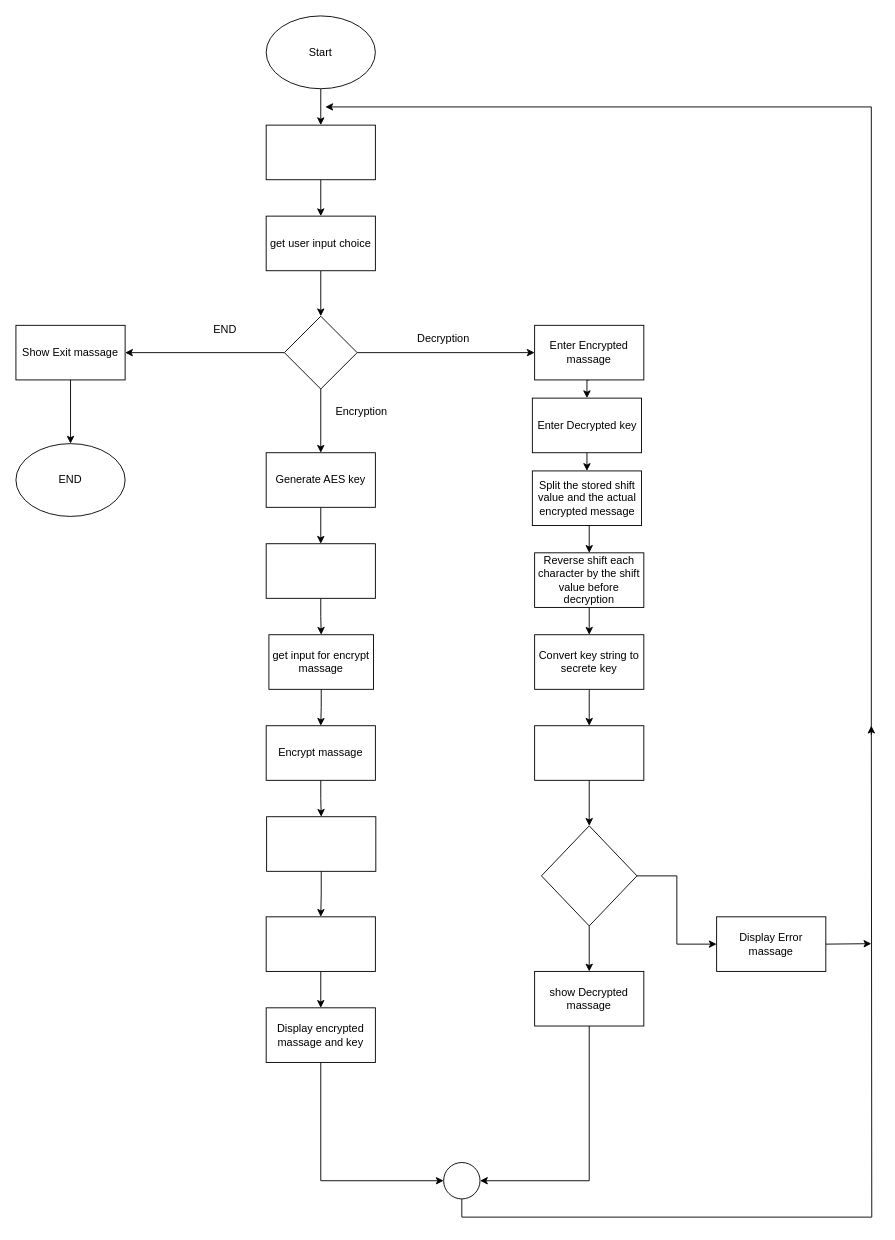
This 895x1240 diagram has some shape labels left out. The shapes that lost their labels are listed below. From the top down, each one's centre as x and y in pixels, then its label:
the point at 320,152: Display menu Encrypt(1) Decrypt(2) Exit(3)
the point at 320,352: user choice
the point at 320,570: convert key to string
the point at 589,752: Attempt to decrypt the message.
the point at 321,843: generate random shift number
the point at 589,875: Decryption Successful
the point at 320,943: Store the shift value as part of the output, separated by a colon
